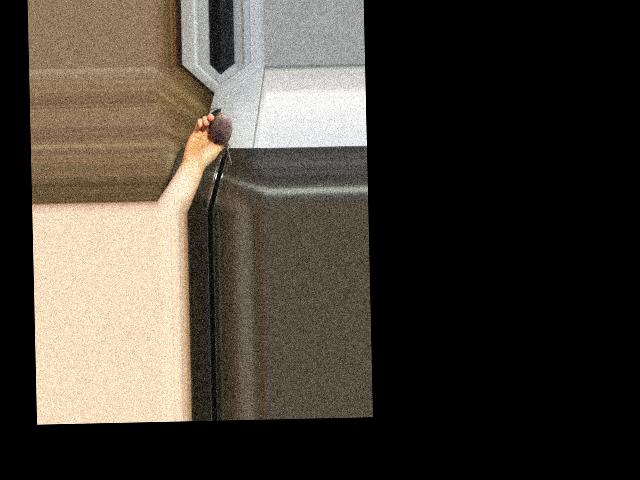beet: (209, 107, 233, 164)
